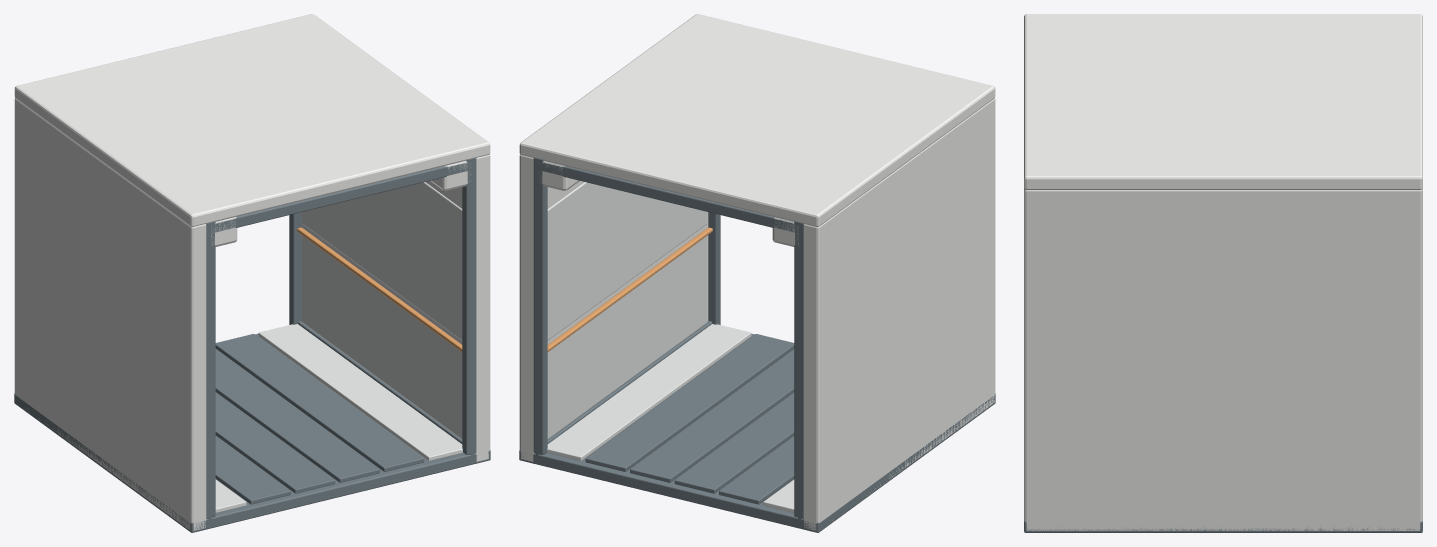
The model's file is mh_corridor_bay.glb.
3 renders of one model, left to right at view 1: azimuth 30°, elevation 25°; view 2: azimuth 150°, elevation 25°; view 3: azimuth 270°, elevation 25°, orthographic. The views are drawn at different scales.
Parts seen in each view (by area): view 1: mh_corridor_bay; view 2: mh_corridor_bay; view 3: mh_corridor_bay.
Boxes of the visible parts, <box> form: mh_corridor_bay: <box>14,14,490,532</box>; mh_corridor_bay: <box>519,14,995,532</box>; mh_corridor_bay: <box>1024,14,1422,532</box>.
Size of the model in its own units: 2.92 by 2.96 by 3.
